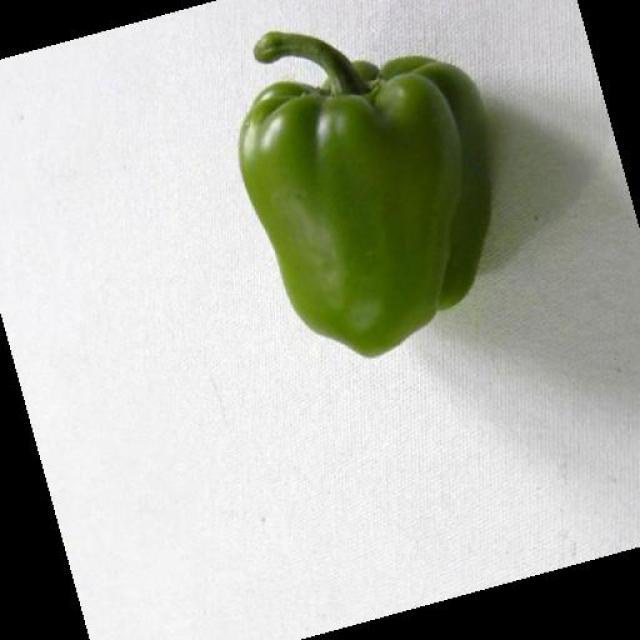Fresh_Capsicum: (242, 34, 488, 340)
